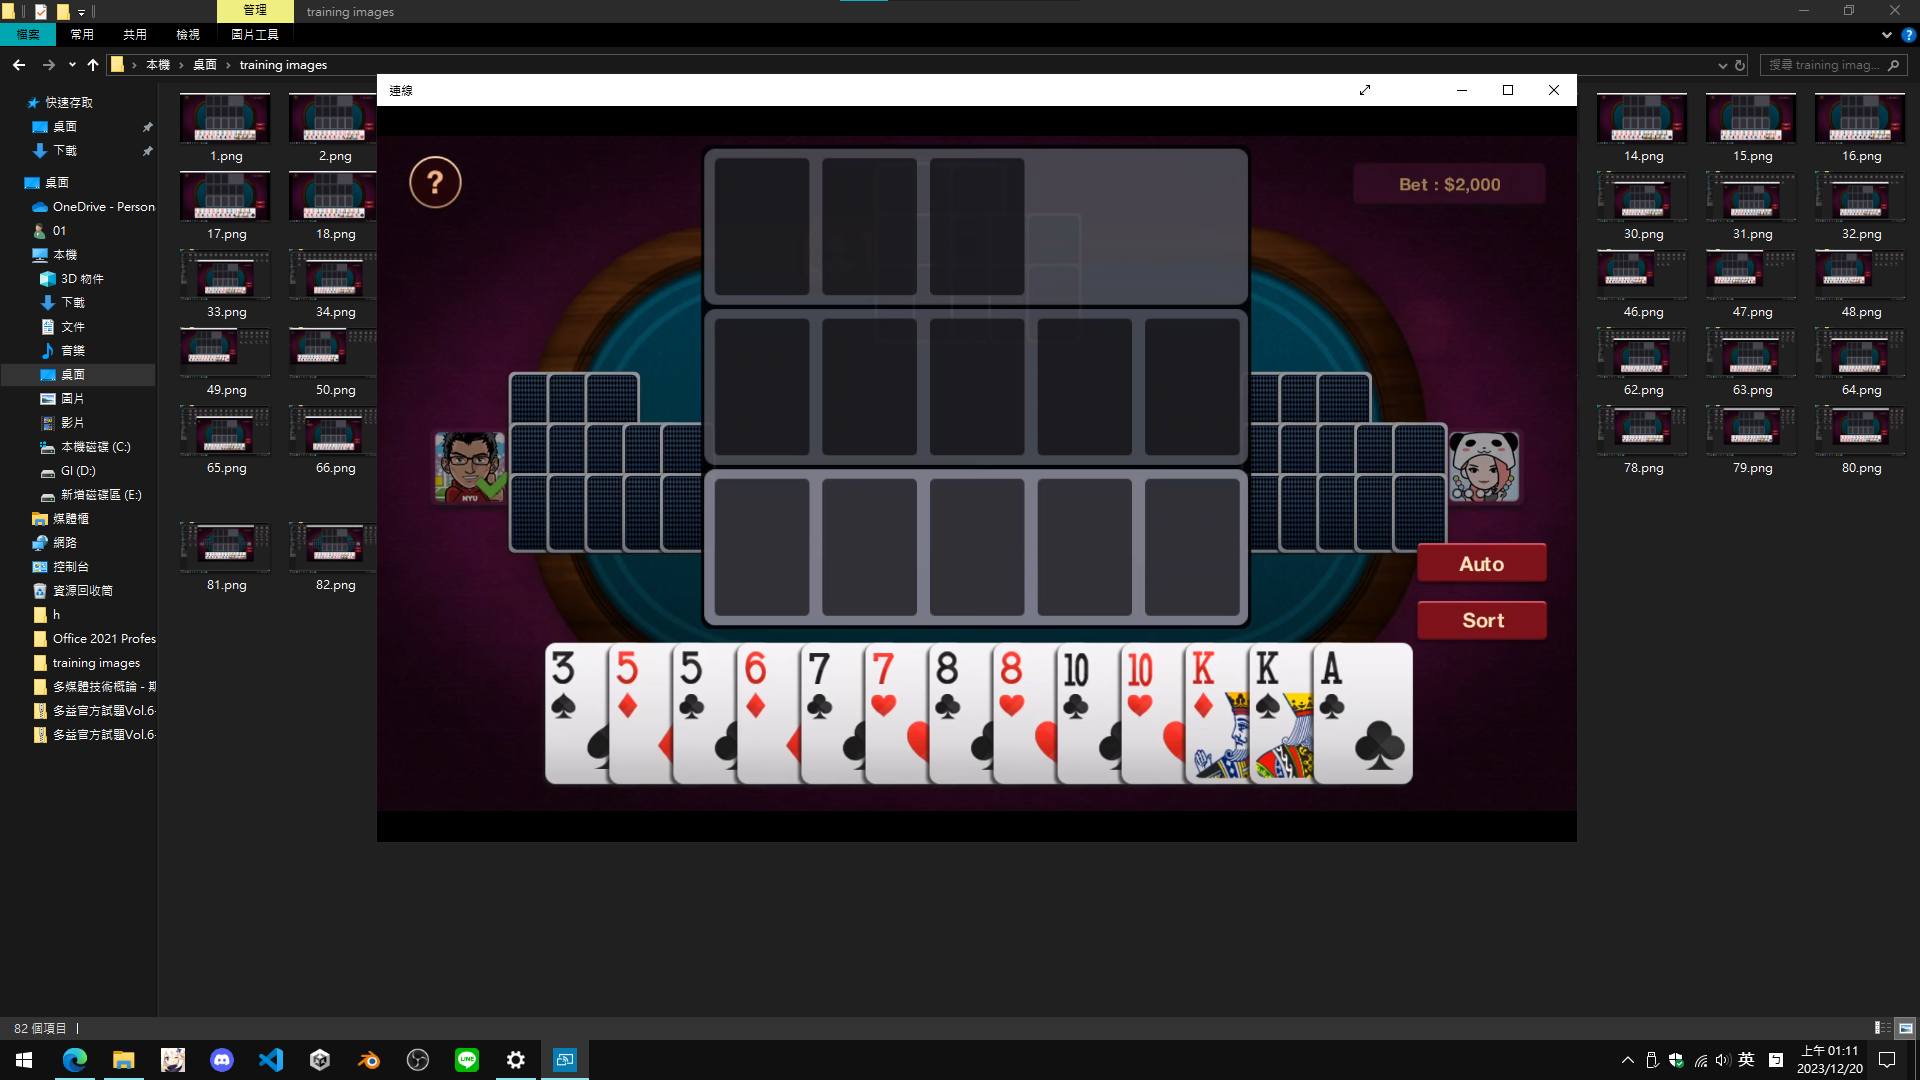10C: (1060, 649, 1095, 723)
10H: (1124, 647, 1159, 720)
3S: (550, 647, 579, 724)
5C: (676, 646, 707, 725)
5D: (615, 647, 640, 724)
6D: (742, 650, 766, 721)
7C: (804, 649, 833, 724)
7H: (869, 647, 899, 723)
8C: (934, 646, 964, 728)
8H: (997, 649, 1029, 721)
AC: (1317, 647, 1348, 725)
KD: (1188, 647, 1217, 723)
KS: (1253, 646, 1283, 723)
